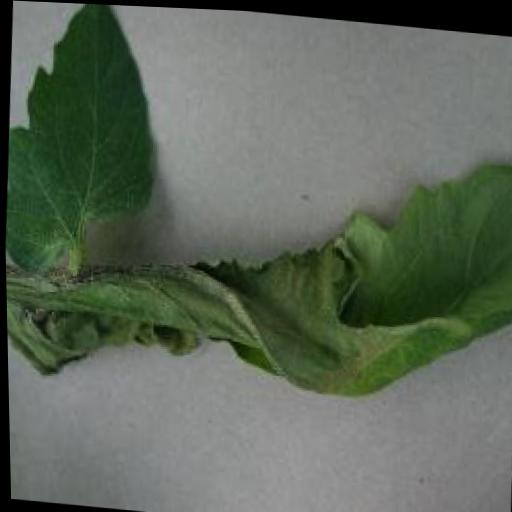Healthy: (0, 0, 171, 282)
Late Blight: (2, 115, 512, 414)
